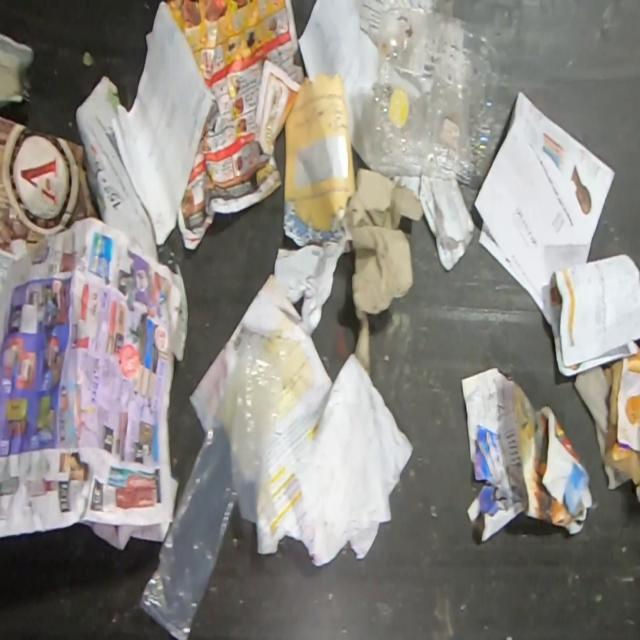cardboard: (0, 116, 102, 253)
rigid_plastic: (365, 0, 497, 187)
soft_plastic: (137, 336, 286, 640)
